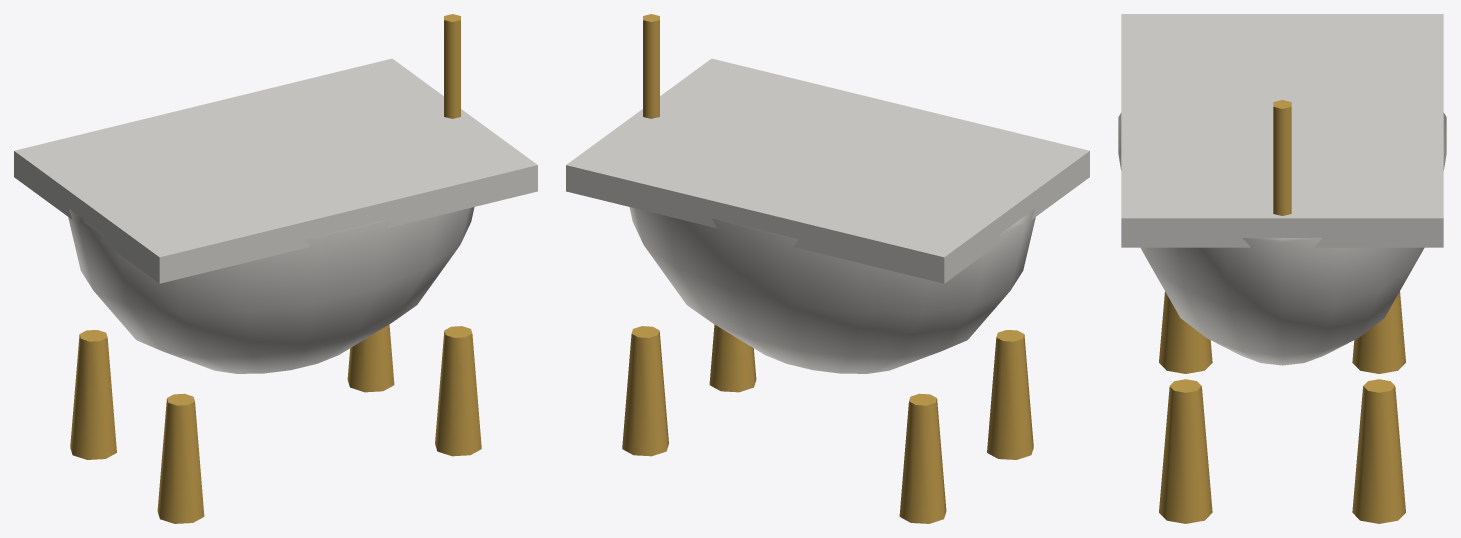
The model's file is bathtub_clawfoot.glb.
3 renders of one model, left to right at view 1: azimuth 30°, elevation 25°; view 2: azimuth 150°, elevation 25°; view 3: azimuth 270°, elevation 25°, orthographic. The views are drawn at different scales.
Visible parts, largest first — view 1: bathtub_clawfoot; view 2: bathtub_clawfoot; view 3: bathtub_clawfoot.
Part boxes in pixels (left/top/right/bottom): bathtub_clawfoot: left=14, top=14, right=537, bottom=523; bathtub_clawfoot: left=566, top=14, right=1089, bottom=523; bathtub_clawfoot: left=1118, top=14, right=1446, bottom=523.
Bounding box in the file's own units: 0.94 × 0.88 × 0.6106.
